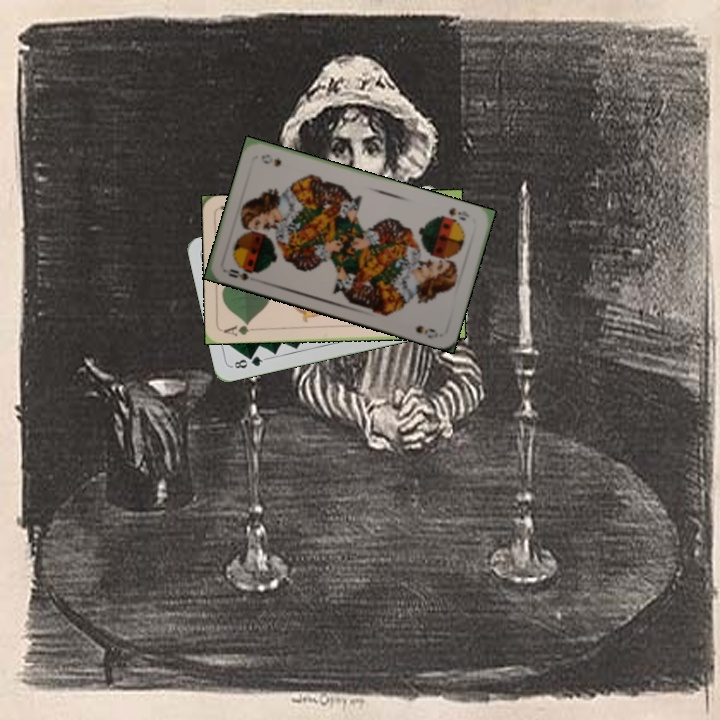G8: (228, 352, 268, 371)
GA: (220, 319, 260, 339)
SO: (221, 263, 262, 283), (437, 203, 472, 223)
